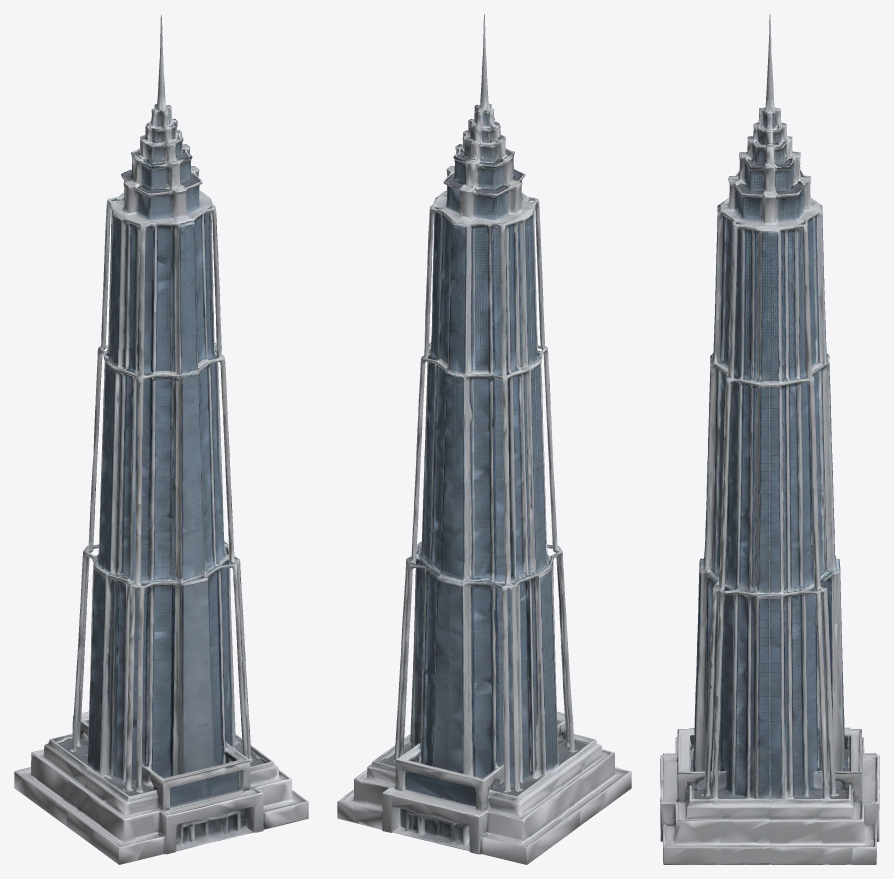
The picture shows the model from 3 angles, left to right: view 1: azimuth 30°, elevation 25°; view 2: azimuth 150°, elevation 25°; view 3: azimuth 270°, elevation 25°; orthographic projection.
Bounding box in the file's own units: 0.4792 × 1.9 × 0.4695.
1 material, 1 textured.
